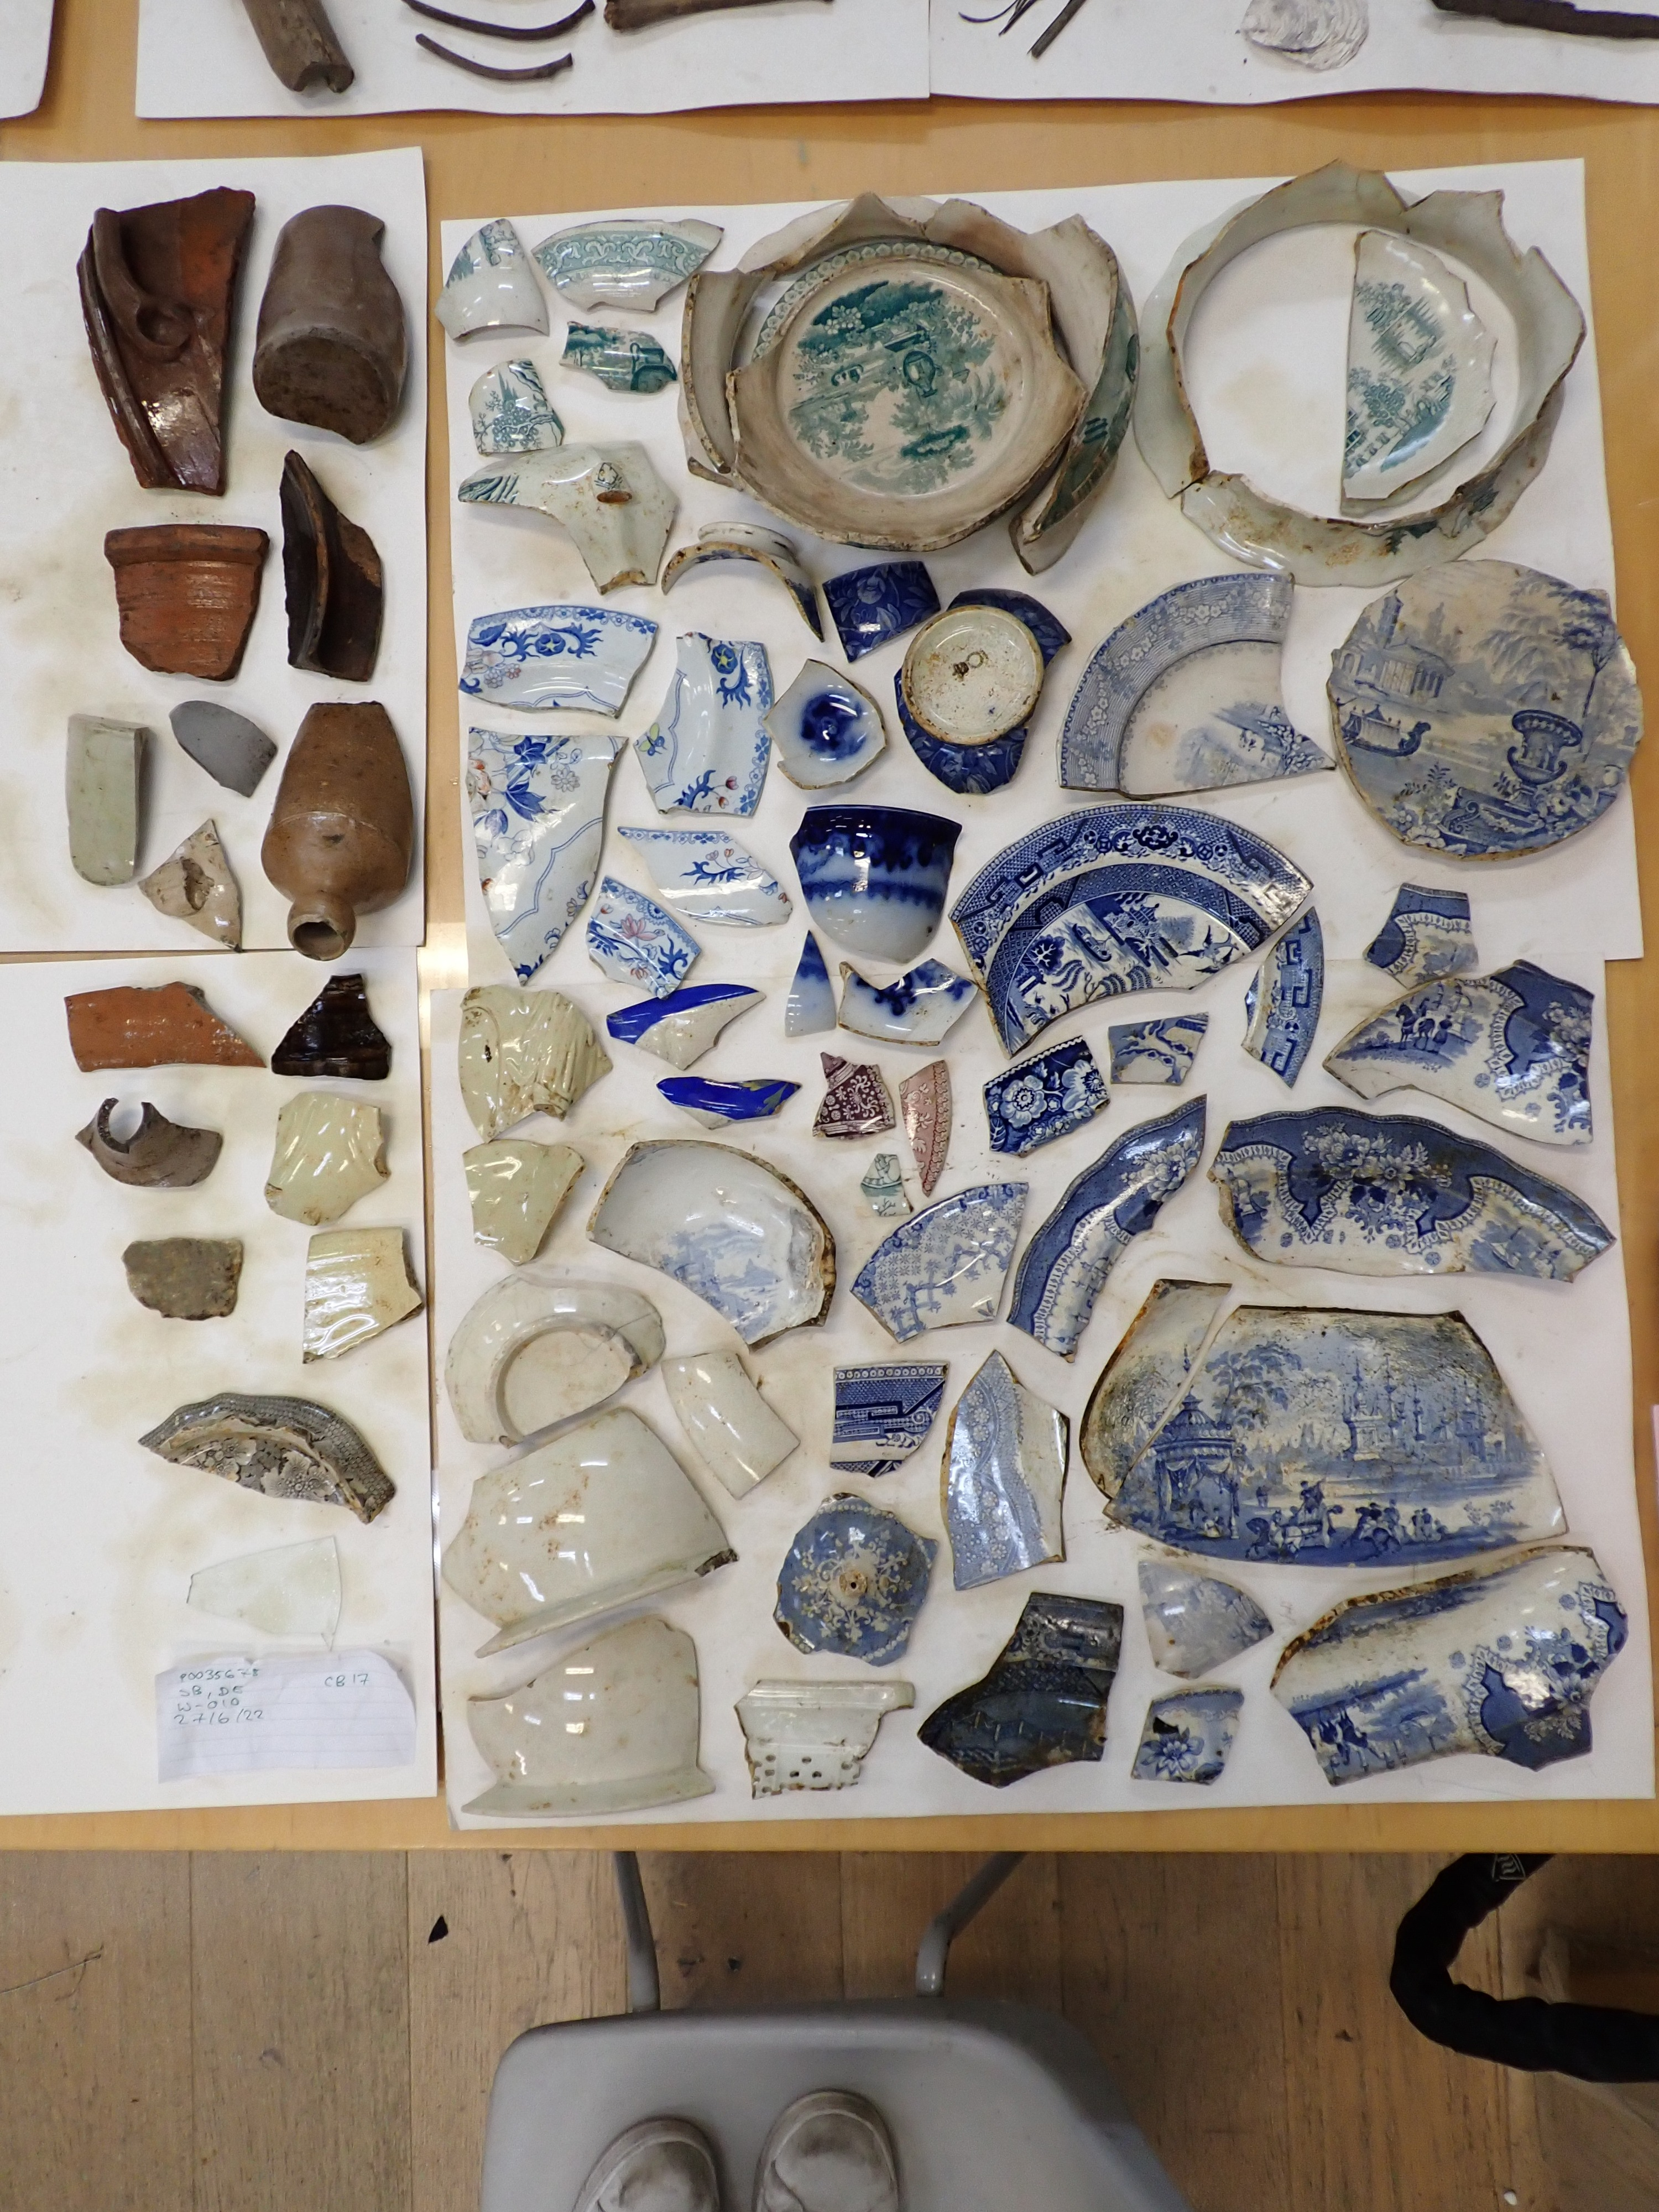Counted_Objects: (1134, 148, 1595, 590), (681, 169, 1140, 580), (1100, 1298, 1581, 1568), (1321, 552, 1652, 869), (1251, 1580, 1626, 1811), (1204, 1101, 1624, 1296), (918, 873, 1286, 1089), (1042, 566, 1338, 805), (68, 169, 261, 505), (397, 1487, 695, 1691), (580, 1136, 847, 1353), (453, 1613, 721, 1822), (1319, 956, 1605, 1151), (1331, 228, 1506, 507), (458, 718, 636, 988), (906, 1587, 1129, 1792), (260, 688, 423, 967), (261, 185, 430, 441), (399, 1332, 647, 1500), (125, 1383, 404, 1529), (448, 432, 683, 601), (931, 556, 1096, 779), (265, 441, 408, 693), (1143, 1050, 1255, 1367), (938, 1343, 1077, 1594), (84, 516, 281, 690), (845, 1170, 1035, 1348), (781, 798, 969, 970), (767, 1486, 943, 1669), (627, 624, 774, 822), (450, 594, 666, 723), (450, 977, 613, 1144), (732, 1667, 922, 1808), (1176, 1242, 1267, 1507), (49, 979, 270, 1083), (653, 517, 826, 646), (253, 1083, 403, 1231), (42, 698, 152, 897), (608, 813, 800, 927), (528, 211, 730, 317), (176, 1529, 368, 1641), (751, 653, 892, 794), (289, 1223, 425, 1369), (451, 1129, 591, 1266), (52, 1094, 230, 1200), (1237, 900, 1333, 1092), (1131, 1557, 1277, 1683), (598, 0, 850, 71), (816, 1353, 953, 1484), (131, 810, 253, 956), (430, 207, 554, 350), (211, 0, 361, 117), (640, 1378, 744, 1545), (981, 1035, 1114, 1163), (261, 963, 401, 1080), (605, 975, 772, 1071), (1352, 880, 1492, 991), (580, 869, 701, 998), (833, 953, 983, 1050), (106, 1228, 251, 1329), (157, 693, 286, 803), (1127, 1681, 1249, 1787), (394, 37, 592, 99), (807, 577, 927, 676), (462, 350, 570, 456), (955, 0, 1107, 73), (1103, 1005, 1215, 1101), (1424, 0, 1659, 45), (551, 317, 683, 397), (652, 1073, 805, 1134), (892, 1057, 951, 1204), (809, 1049, 897, 1144), (396, 0, 596, 40), (779, 923, 840, 1038), (854, 1150, 917, 1221)
Not_Counted_Objects: (1340, 1853, 1659, 2092), (552, 2060, 960, 2212), (138, 1656, 422, 1794)
